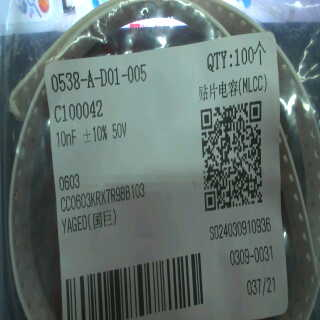10nF: (55, 127, 80, 150)
